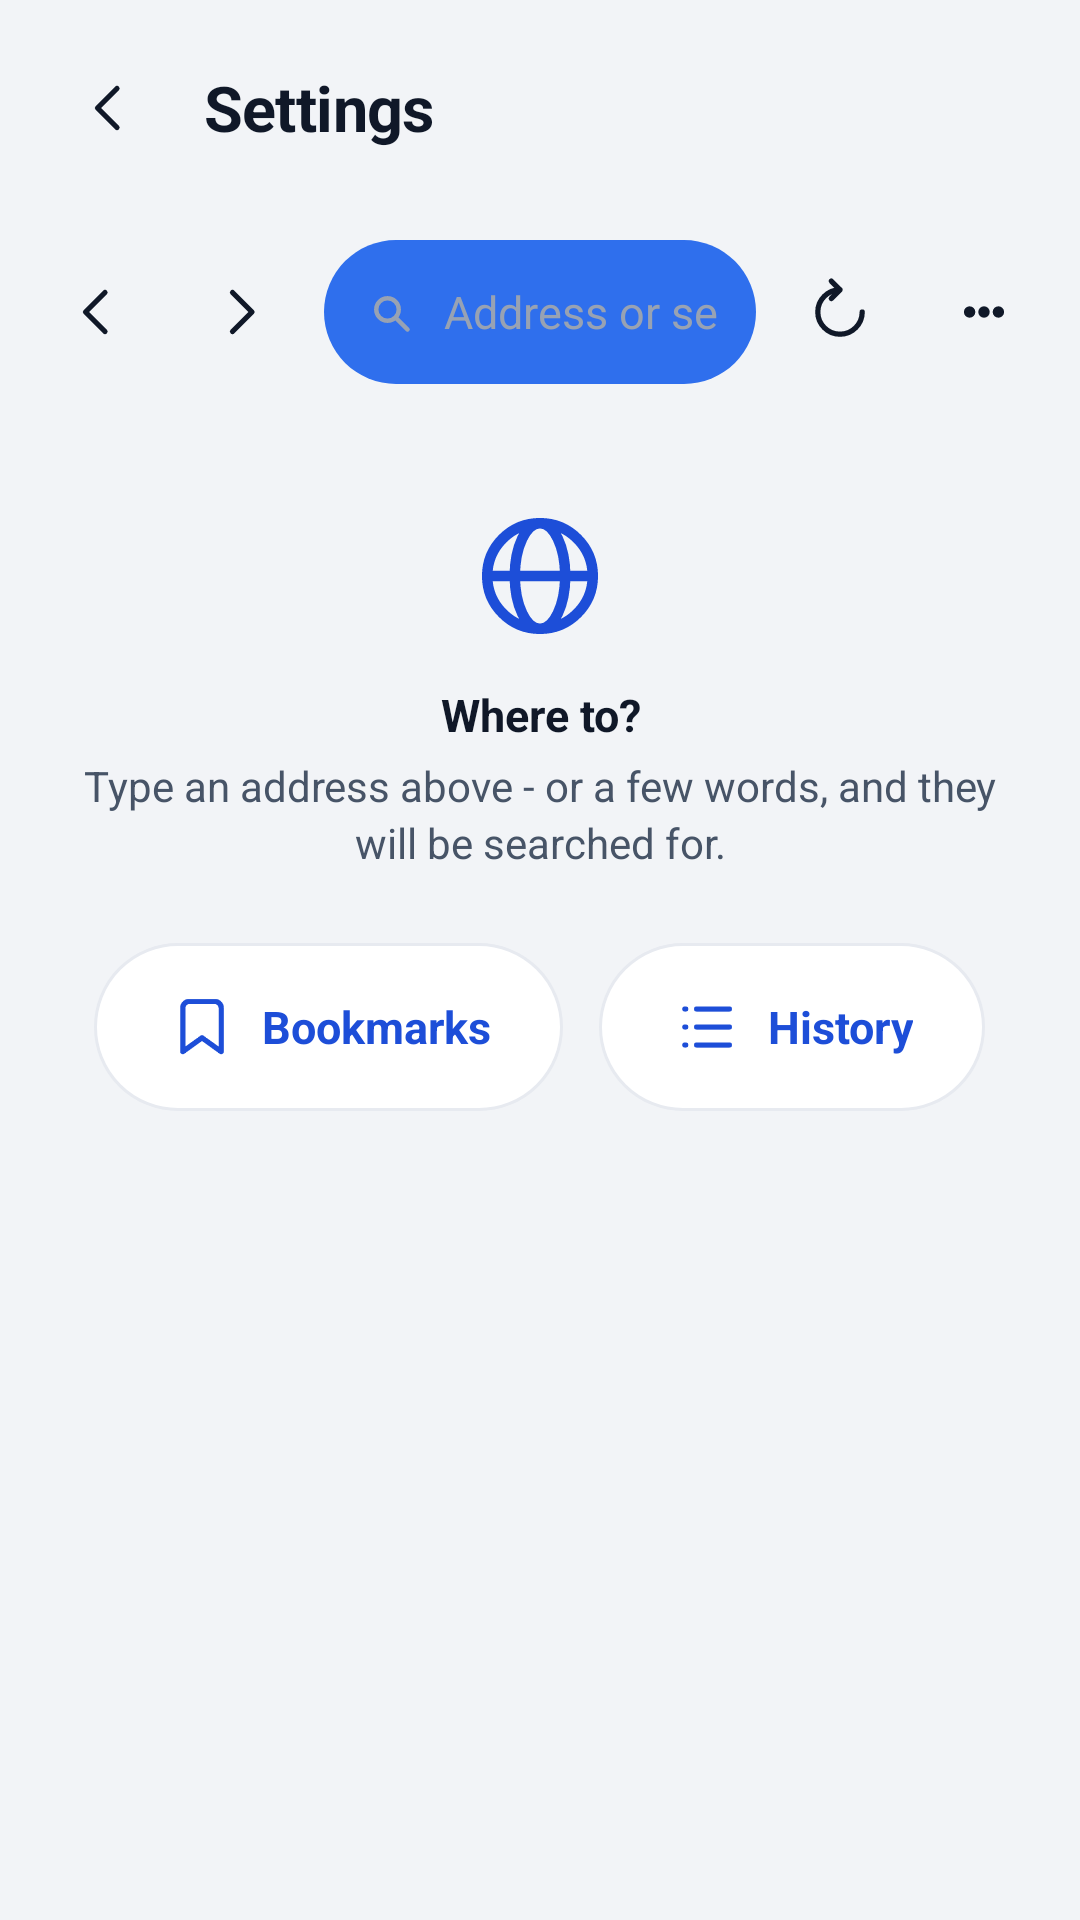

Named icons in this screenshot (1080 x 1920) and their centers, (x,y):
Back: (107,108), (95,312)
Forward: (242,312)
More actions: (984,312)
Reload: (840,307)
web: (540,576)
